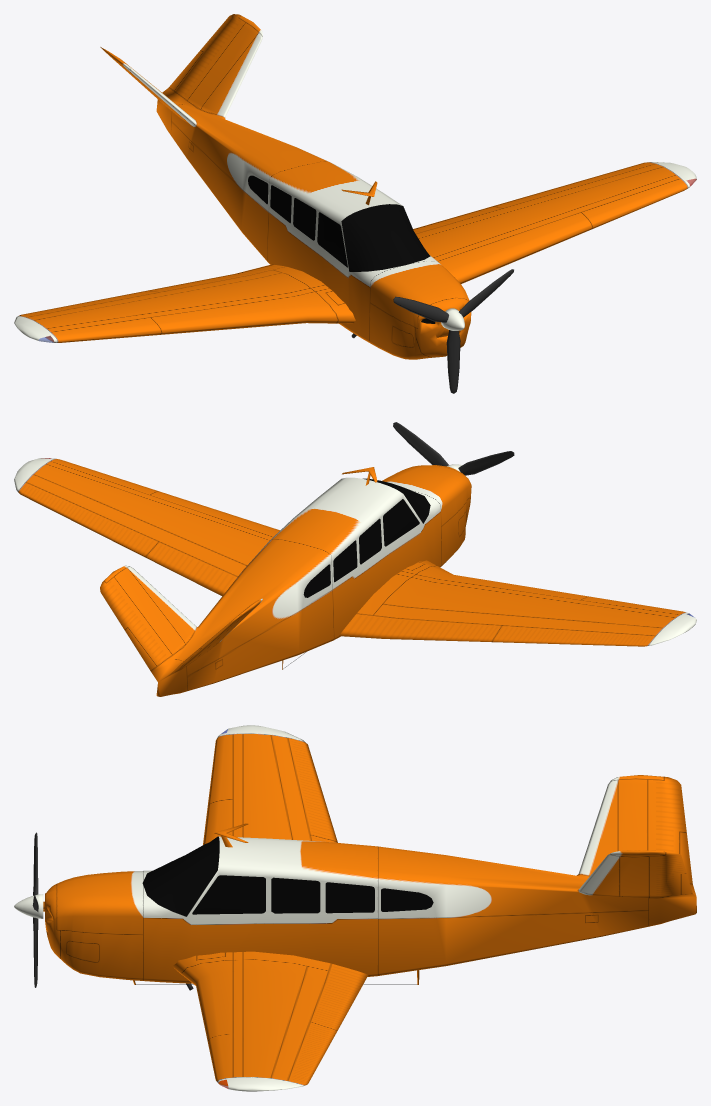
The model's file is airplane3.obj.
3 views of the same model, one above another, from view 1: azimuth 30°, elevation 25°; view 2: azimuth 150°, elevation 25°; view 3: azimuth 270°, elevation 25° (orthographic). The views are drawn at different scales.
Parts seen in each view (by area): view 1: aircraft, window, propeller; view 2: aircraft, window, propeller; view 3: aircraft, window, propeller.
Part boxes in pixels (x1,y1,x2,y2): aircraft: (14,14,696,359); window: (248,175,430,271); propeller: (393,269,513,393); aircraft: (14,458,696,696); window: (303,478,430,597); propeller: (393,422,514,475); aircraft: (43,725,696,1091); window: (142,836,433,916); propeller: (14,832,43,987).
Size of the model in its own units: 11.72 by 2.63 by 9.29.
5 materials, 1 textured.
